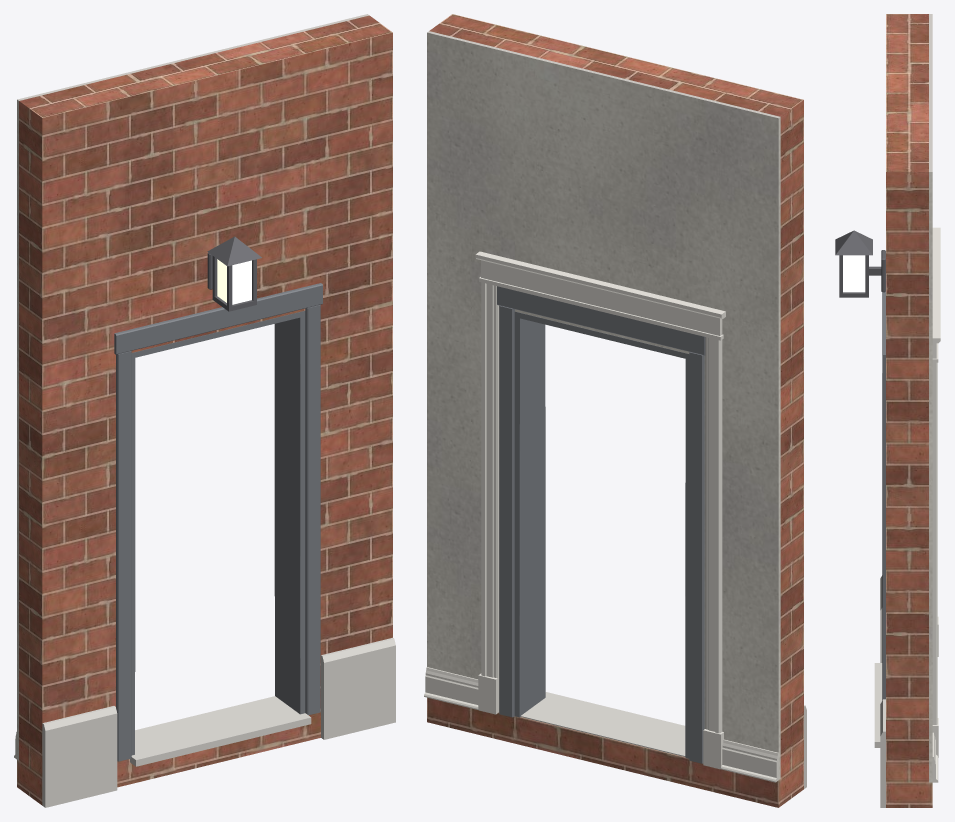
File: pg_svc.glb
3 views of the same model, side by side, from view 1: azimuth 30°, elevation 25°; view 2: azimuth 150°, elevation 25°; view 3: azimuth 270°, elevation 25° (orthographic). The views are drawn at different scales.
Visible parts, largest first — view 1: pg_svc_brick, pg_svc_frame, pg_svc_cill, pg_svc_plaster, pg_svc_iron, pg_svc_lamp_glass; view 2: pg_svc_plaster, pg_svc_brick, pg_svc_frame, molduras, pg_svc_cill; view 3: pg_svc_brick, molduras, pg_svc_plaster, pg_svc_frame, pg_svc_iron, pg_svc_cill, pg_svc_lamp_glass.
Boxes of the visible parts, bbox=[...] form: pg_svc_brick: bbox=[17, 15, 392, 805]; pg_svc_frame: bbox=[114, 283, 322, 761]; pg_svc_cill: bbox=[42, 637, 395, 807]; pg_svc_plaster: bbox=[17, 14, 369, 760]; pg_svc_iron: bbox=[207, 236, 261, 311]; pg_svc_lamp_glass: bbox=[217, 259, 251, 304]; pg_svc_plaster: bbox=[427, 31, 780, 779]; pg_svc_brick: bbox=[427, 14, 803, 807]; pg_svc_frame: bbox=[497, 286, 705, 763]; molduras: bbox=[424, 251, 778, 782]; pg_svc_cill: bbox=[520, 692, 806, 788]; pg_svc_brick: bbox=[886, 14, 932, 807]; molduras: bbox=[932, 227, 940, 782]; pg_svc_plaster: bbox=[929, 14, 932, 782]; pg_svc_frame: bbox=[882, 291, 885, 699]; pg_svc_iron: bbox=[835, 230, 885, 297]; pg_svc_cill: bbox=[874, 575, 885, 807]; pg_svc_lamp_glass: bbox=[843, 255, 865, 292].
Bounding box in the file's own units: 2 × 3.75 × 0.562.
Materials: 7 (2 with a texture image).
